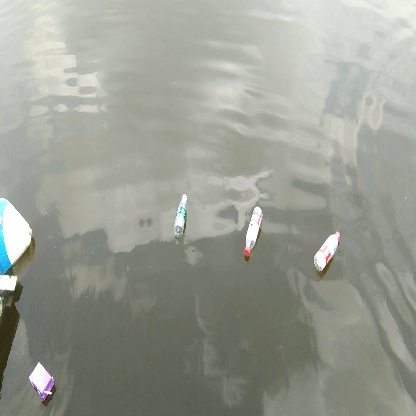bottle: (311, 228, 344, 275), (242, 205, 265, 257), (172, 191, 190, 241)
